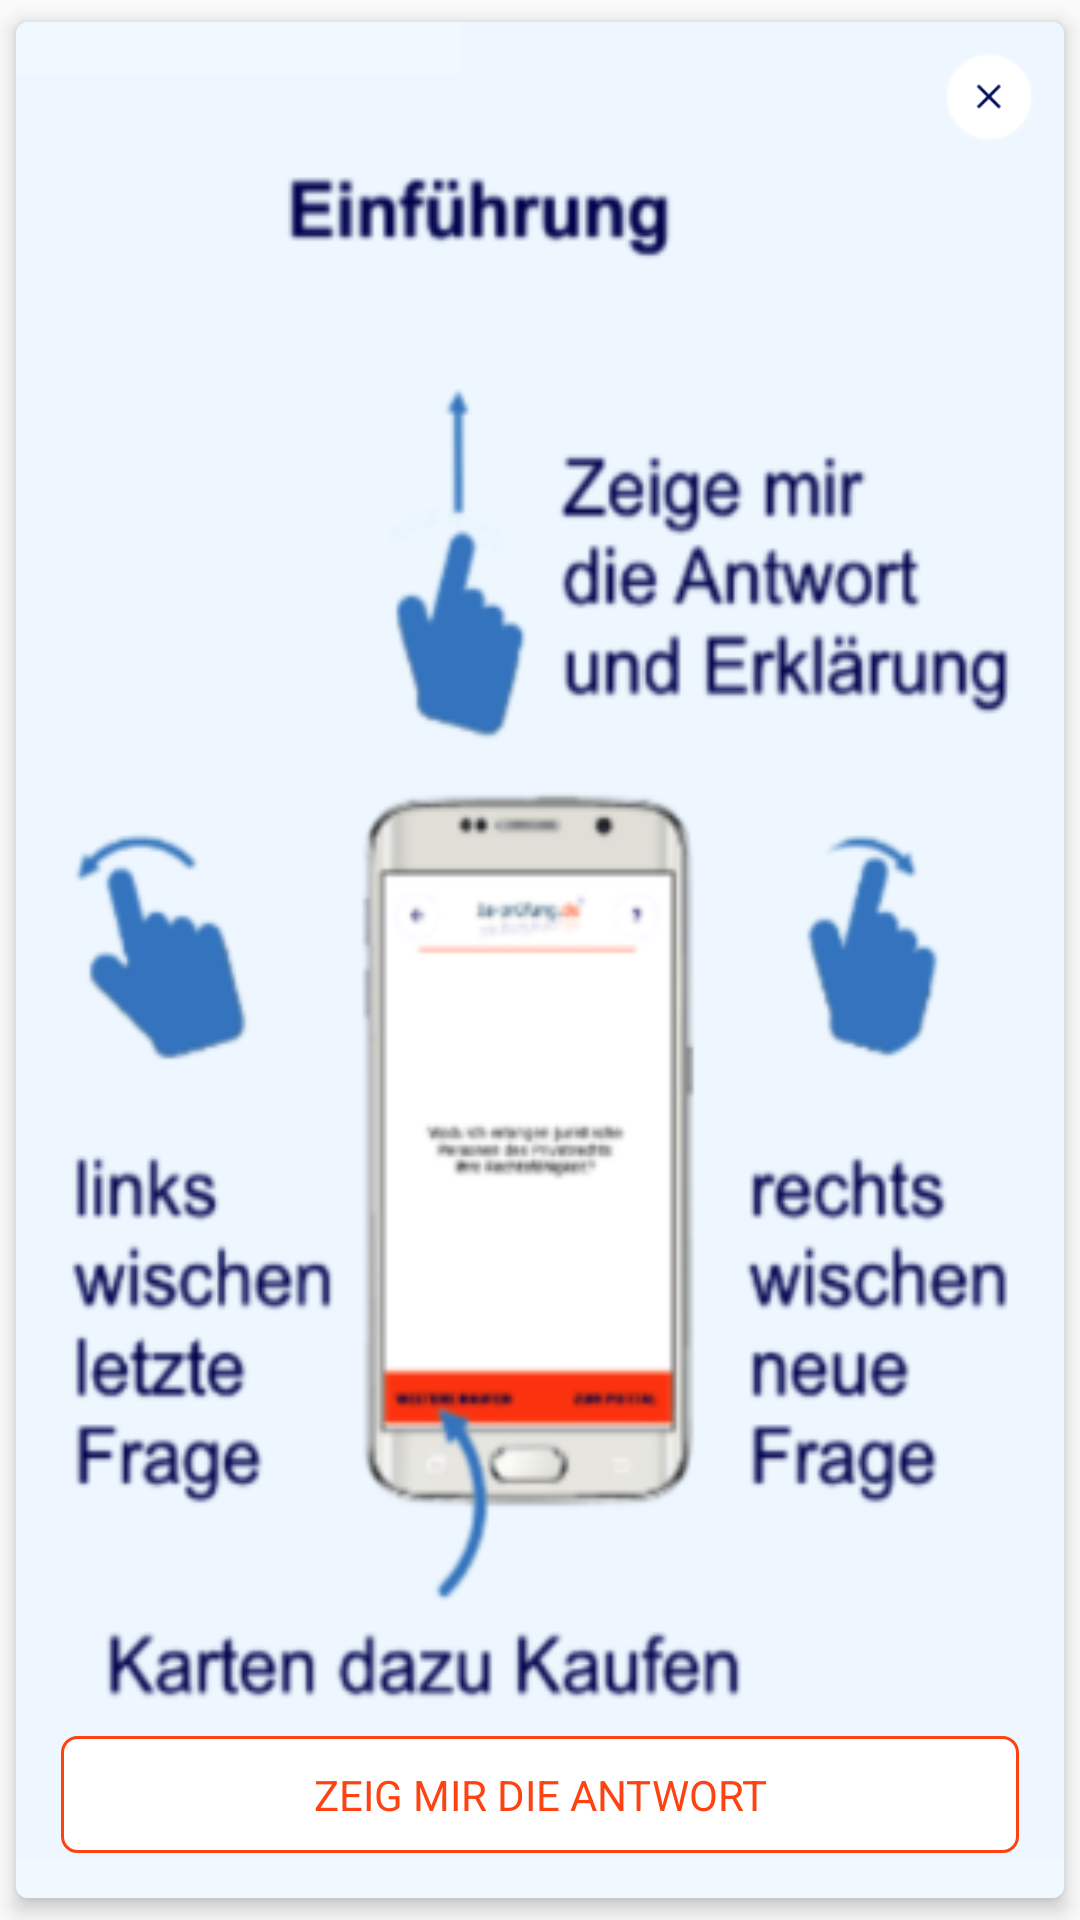

Icons on this 1080×1920 Android screen, each with the point to tap as (x,y):
close: (989,97)
